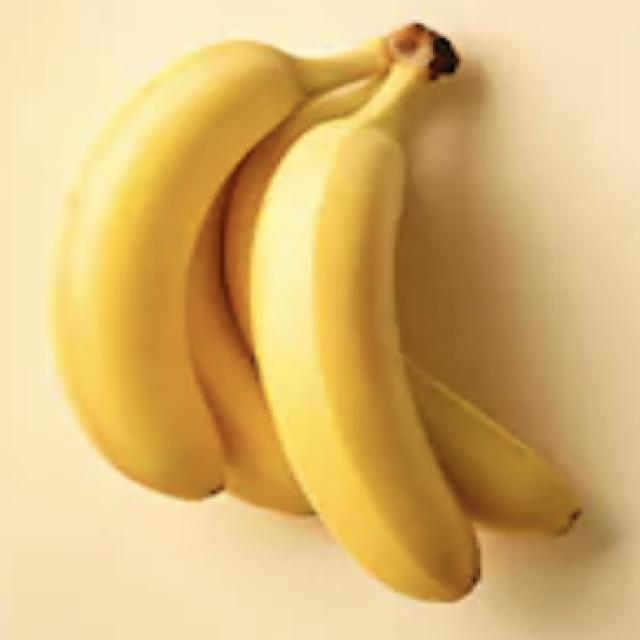Banana: (51, 20, 584, 603)
